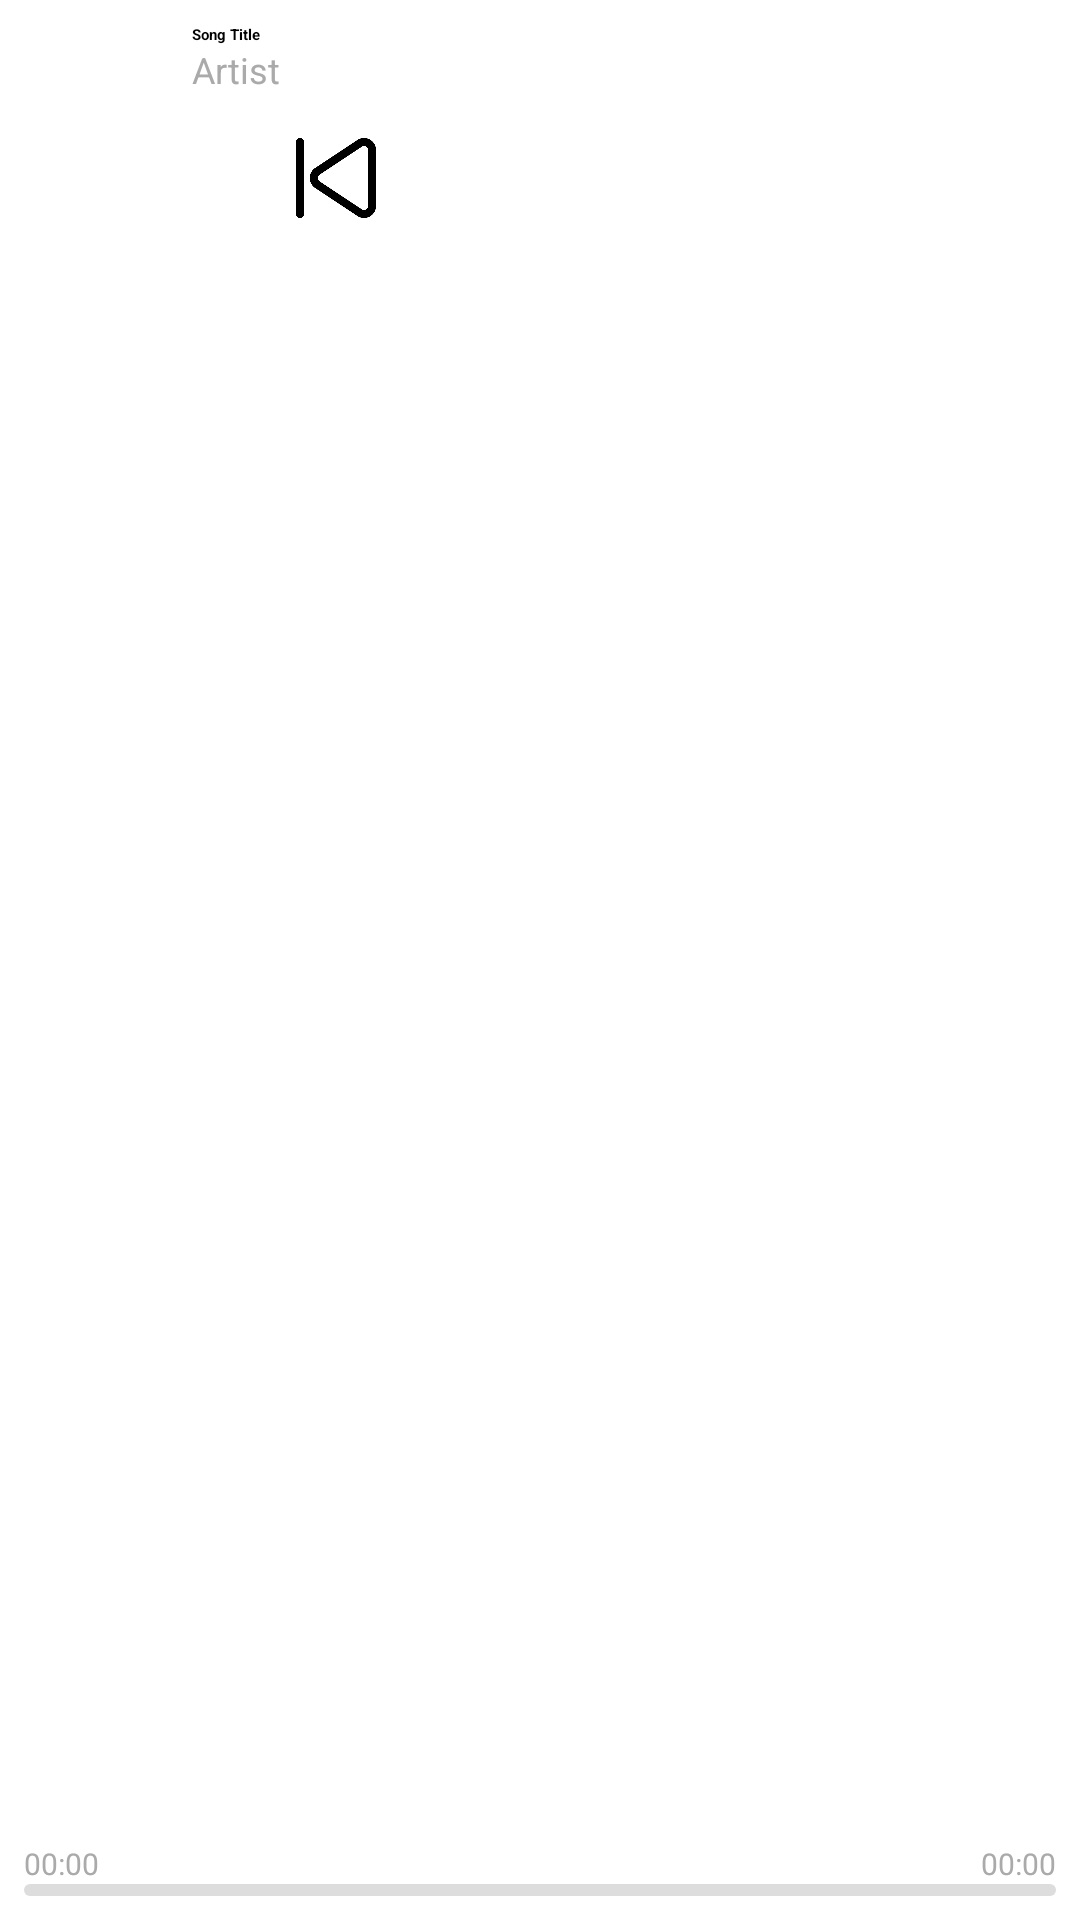

Icons on this 1080*1920 Android screen, each with the point to tap as point (x, y):
Previous: point (336, 178)
